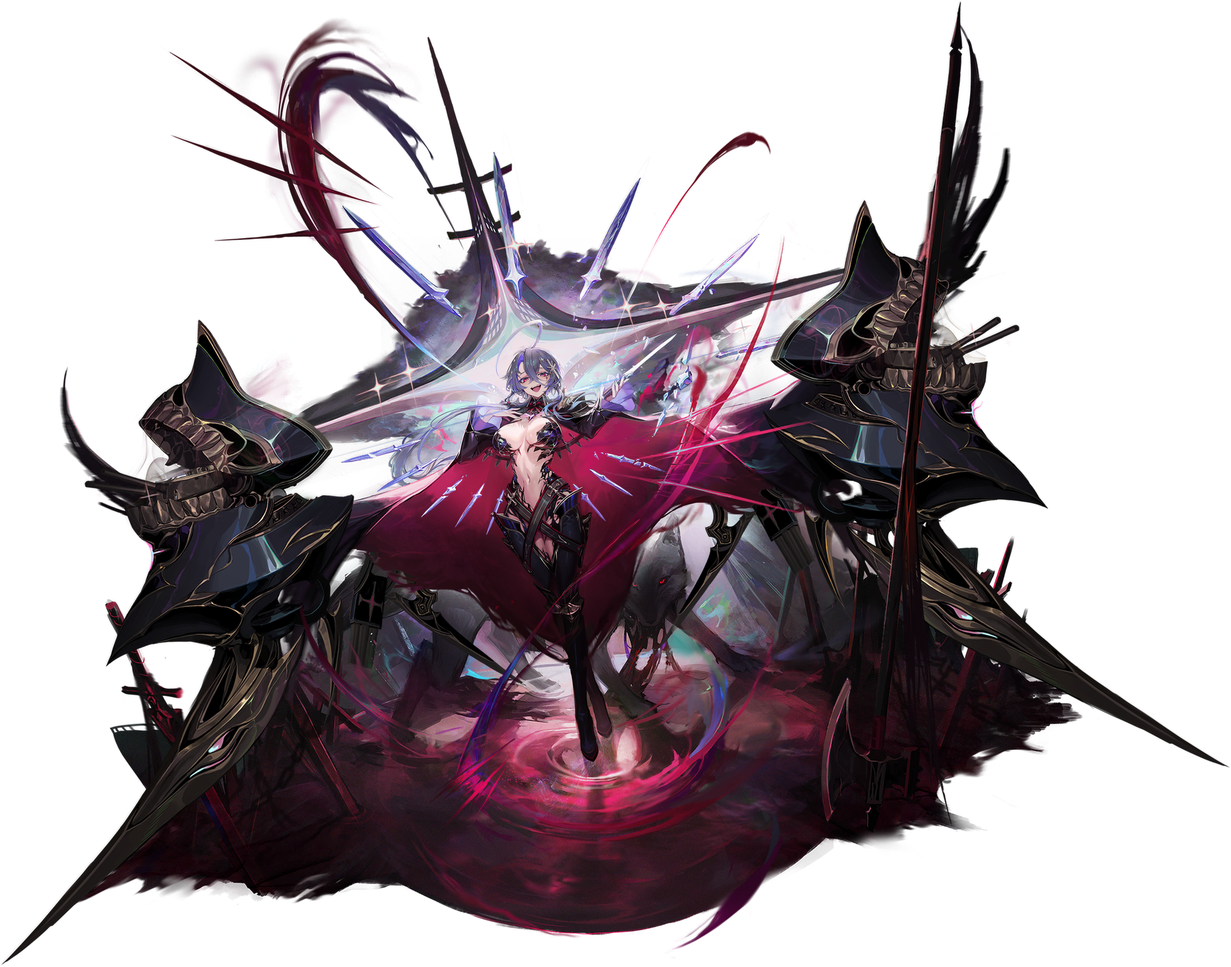person: (403, 317, 638, 807)
